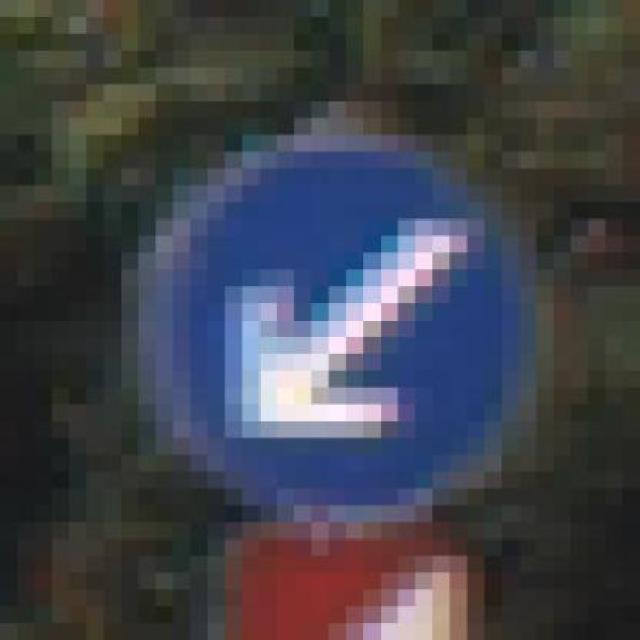Keep-Left: (86, 101, 571, 539)
